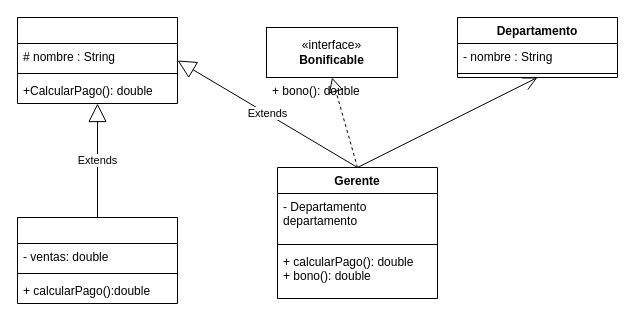
Image size: 635x324. Some labels were removed from this diagram. Here are the shapes that lost their labels. From the top down, the box of each, then its label:
(16, 16, 178, 104): Empleado
(16, 216, 178, 304): Vendedor
